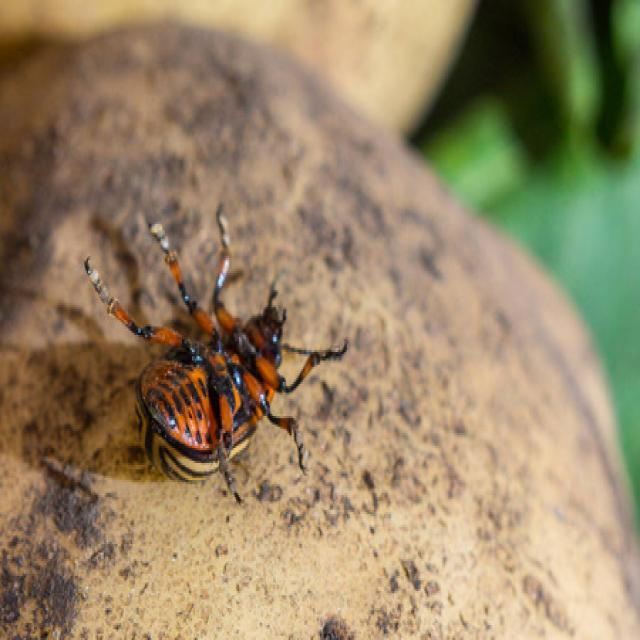ShuCaiHuaBanChong-Grown-: (124, 267, 314, 506)
